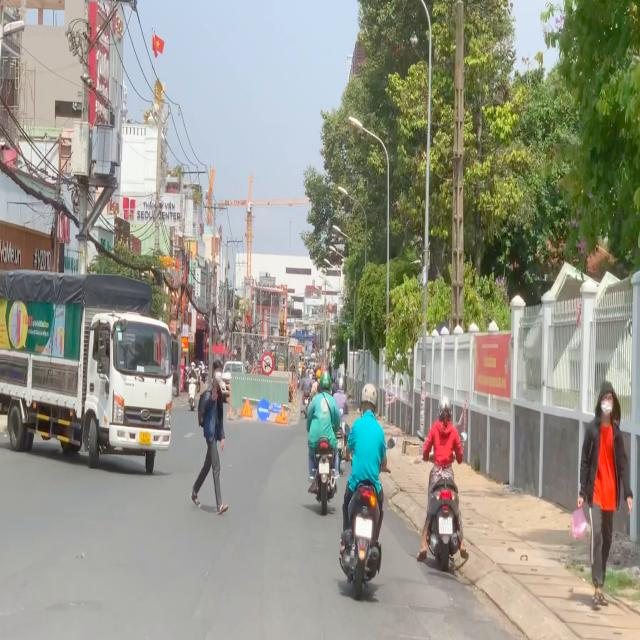Cam con lai: (262, 353, 274, 374)
Nguy hiem: (240, 396, 254, 418)
Re trai: (258, 398, 270, 421)
